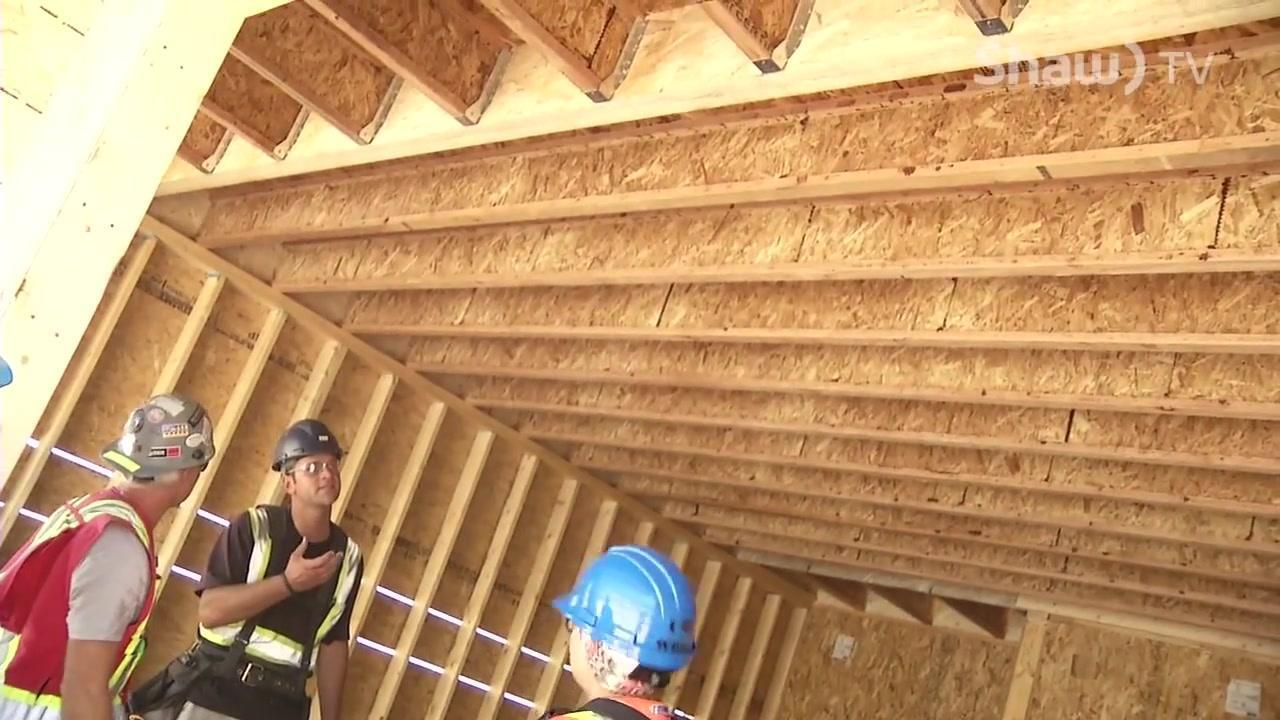vest: (0, 491, 158, 718), (196, 505, 364, 670), (548, 699, 702, 719)
